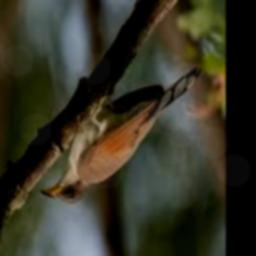Cuckoo: (40, 67, 200, 204)
